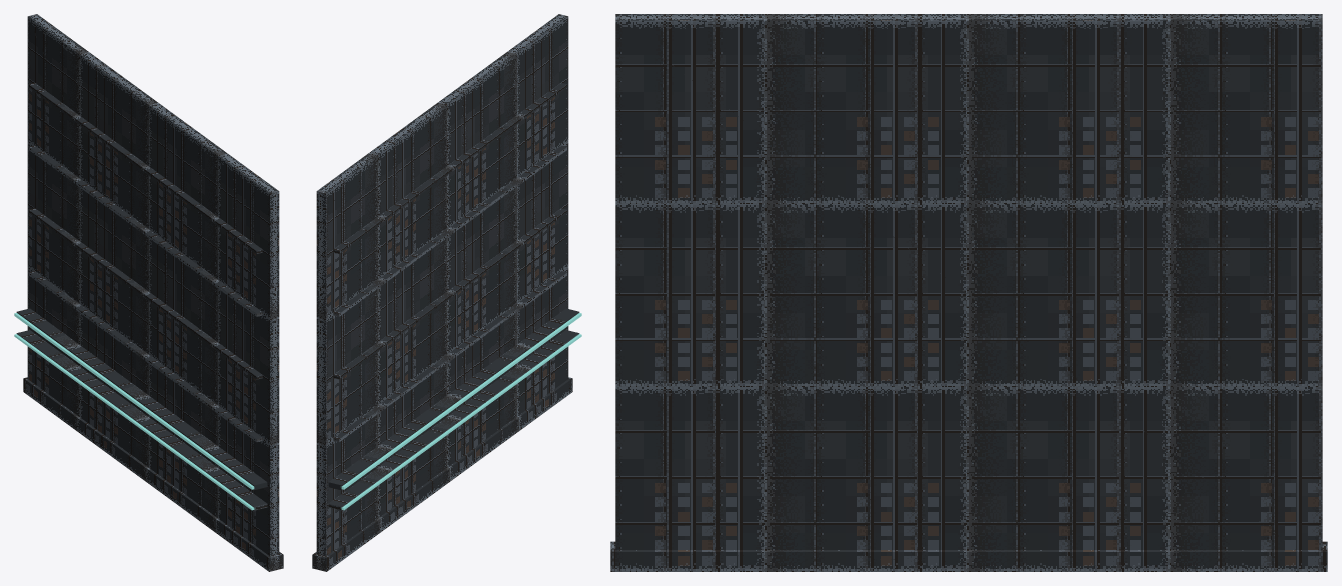
The model's file is lab_height_markers.glb.
The picture shows the model from 3 angles, left to right: view 1: azimuth 30°, elevation 25°; view 2: azimuth 150°, elevation 25°; view 3: azimuth 270°, elevation 25°; orthographic projection. The views are drawn at different scales.
Visible parts, largest first — view 1: lab_height_markers; view 2: lab_height_markers; view 3: lab_height_markers.
Part boxes in pixels (bbox=[...]): lab_height_markers: bbox=[14, 14, 283, 571]; lab_height_markers: bbox=[312, 14, 581, 571]; lab_height_markers: bbox=[610, 14, 1327, 571].
Bounding box in the file's own units: 0.46 × 6 × 7.1.
2 materials, 1 textured.
